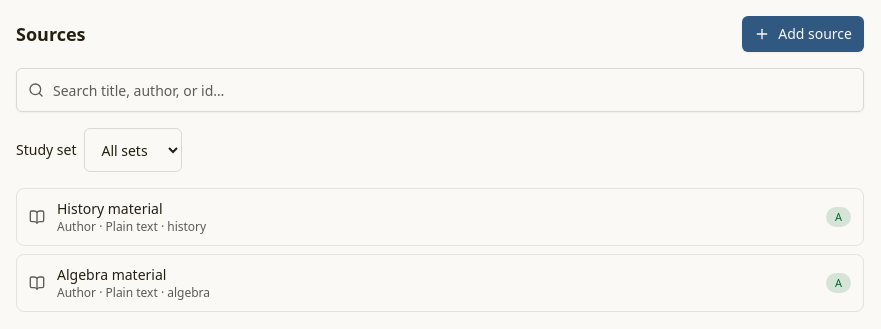
Test: defaults to all sources and combines the set filter with search
Expected: the text "History material" is shown, [57,199,162,219]
Expected: the text "Algebra material" is shown, [57,265,166,285]
Select "History" in the dropdown labelled "Study set": (134, 150) [84,128,182,172]
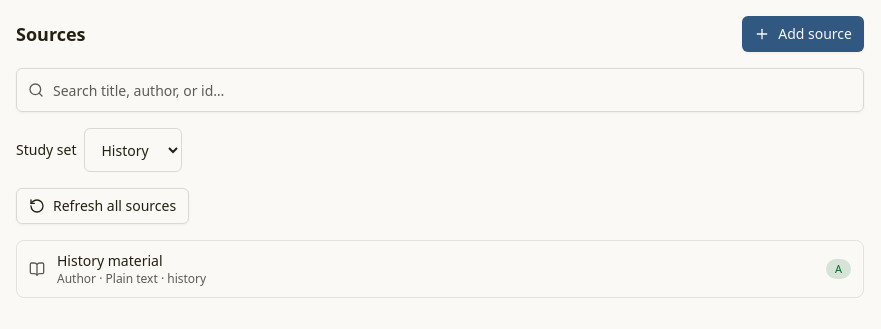
Expected: the text "History material" is shown, [57,251,162,271]
Expected: the link "Algebra material" is gone
In the field: (440, 90) [16,68,864,112], type "Algebra"
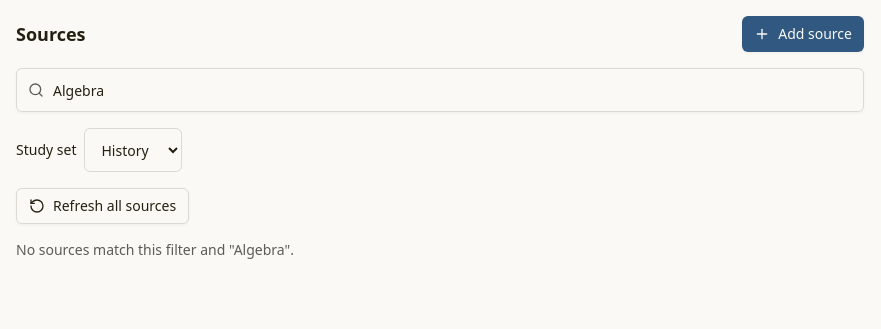
Expected: the link "History material" is gone
Expected: the text "No sources match this filter and \"Algebra\"." is shown, [16,240,864,260]
Select "All sets" in the dropdown labelled "Study set": (134, 150) [84,128,182,172]
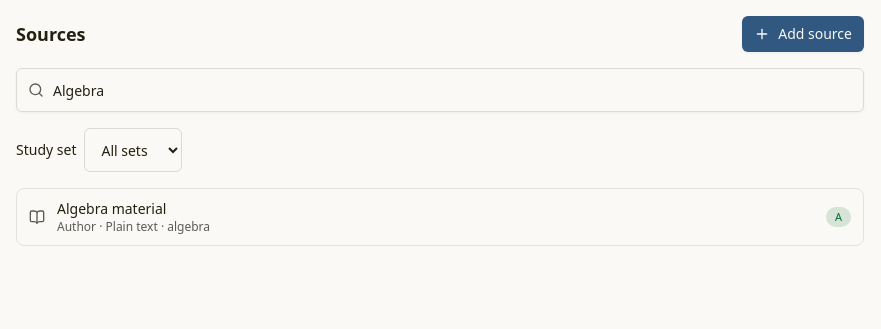
Expected: the text "Algebra material" is shown, [57,199,166,219]
